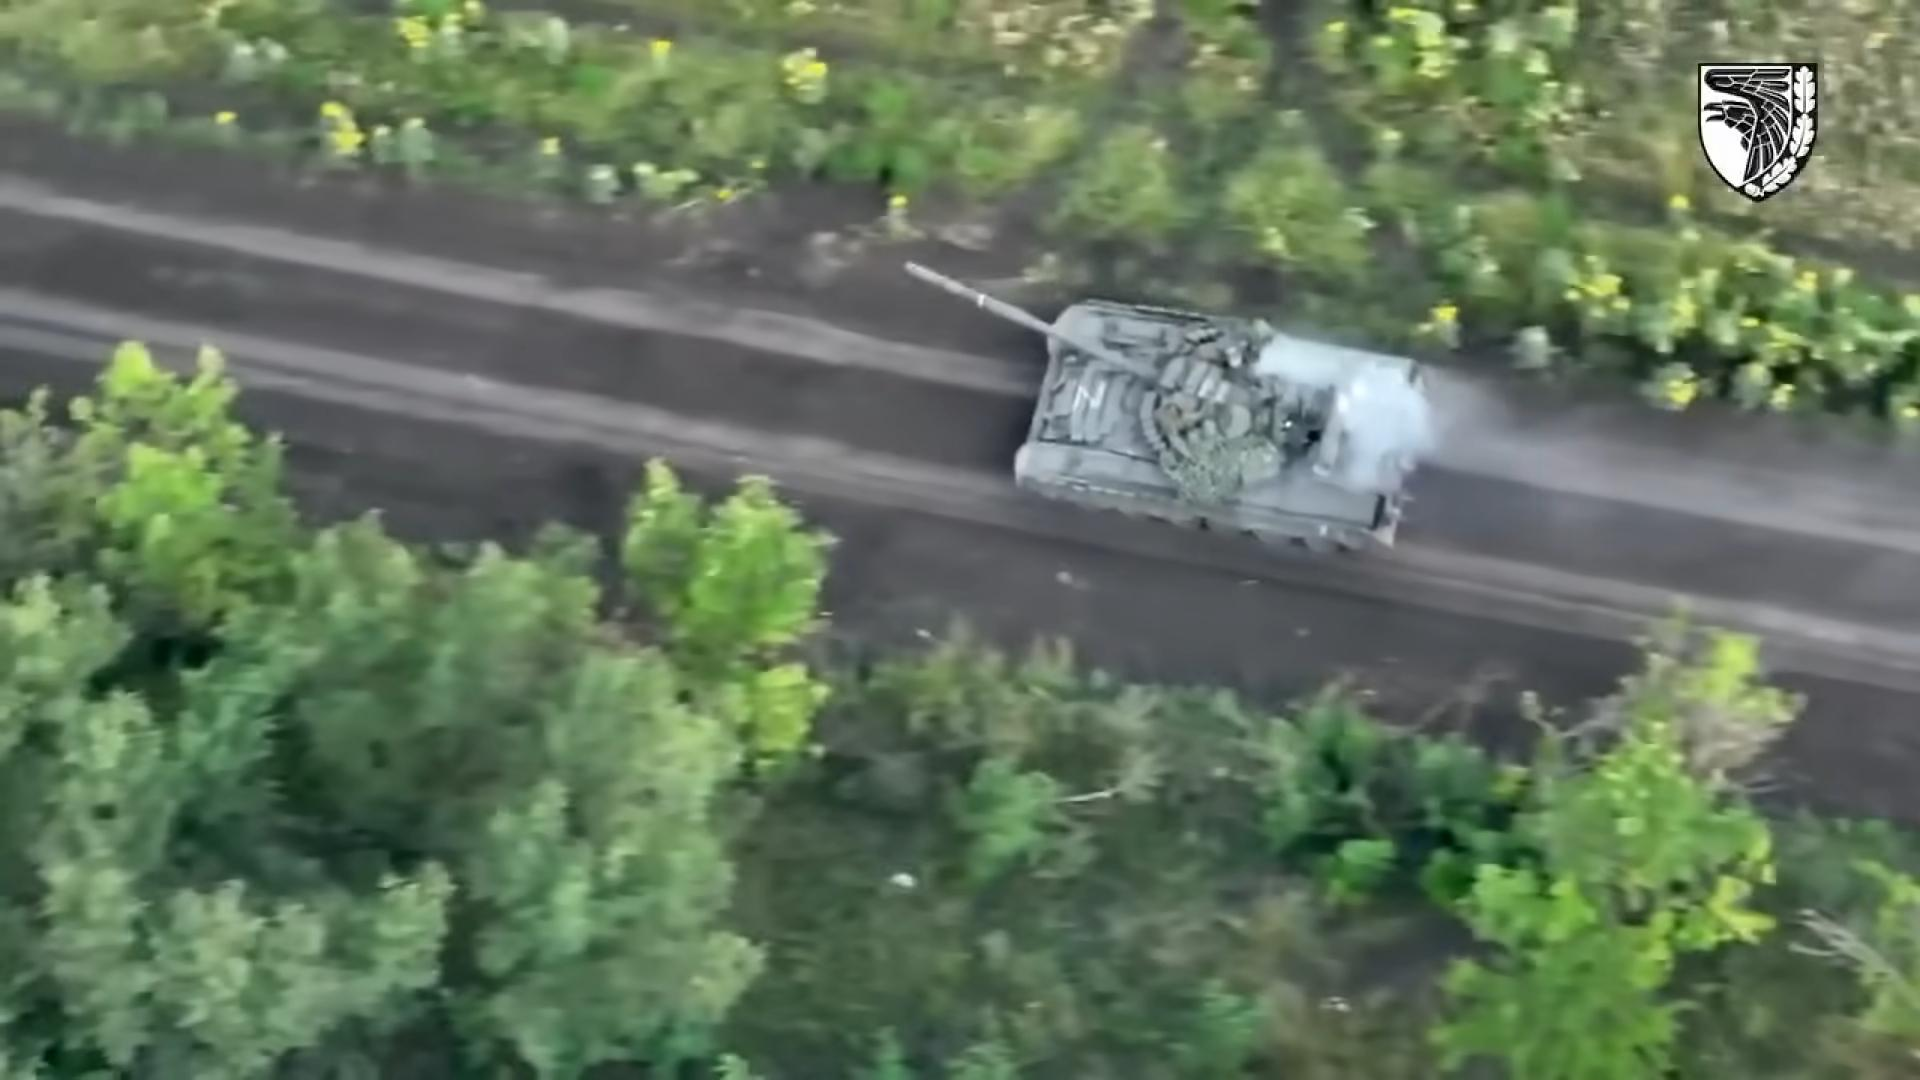tank: (915, 265, 1424, 550)
